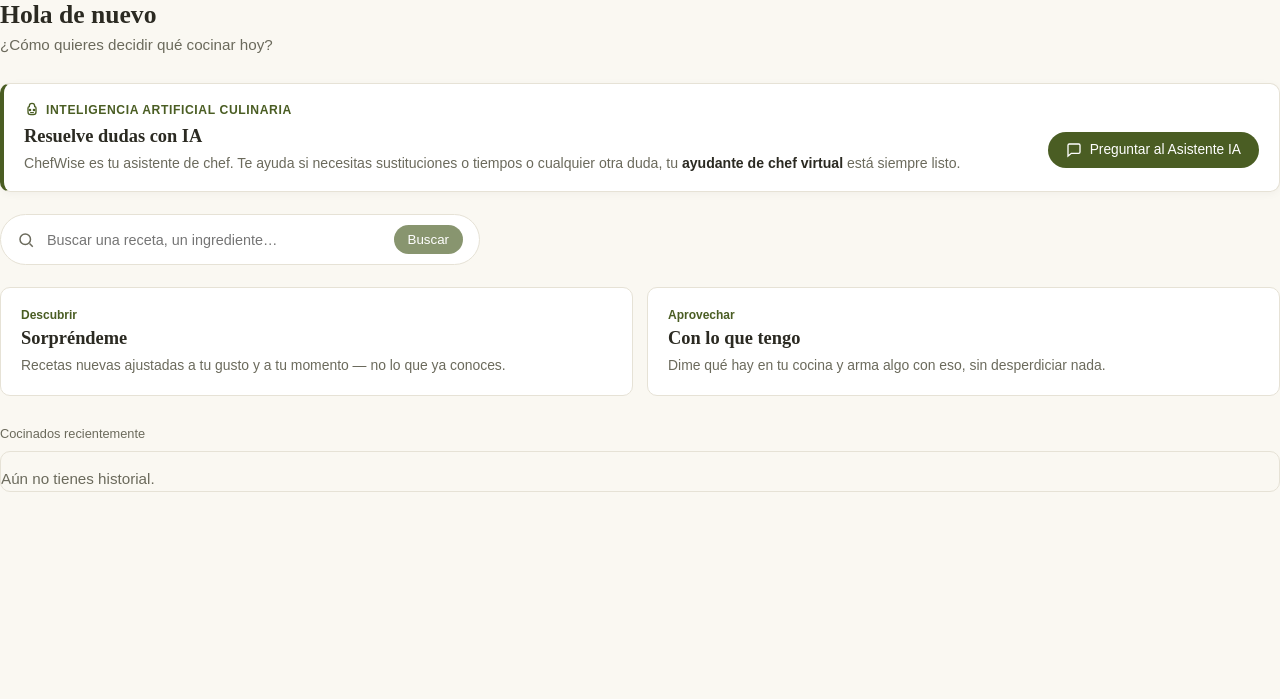
it: HomeComponent (búsqueda del catálogo) › muestra cinco resultados y cuántas coincidencias hay en total
This screenshot has width=1280, height=699.
Type "tacos" into the field with placeholder "Buscar una receta, un ingrediente…" at (214, 240), box [45, 231, 384, 249]
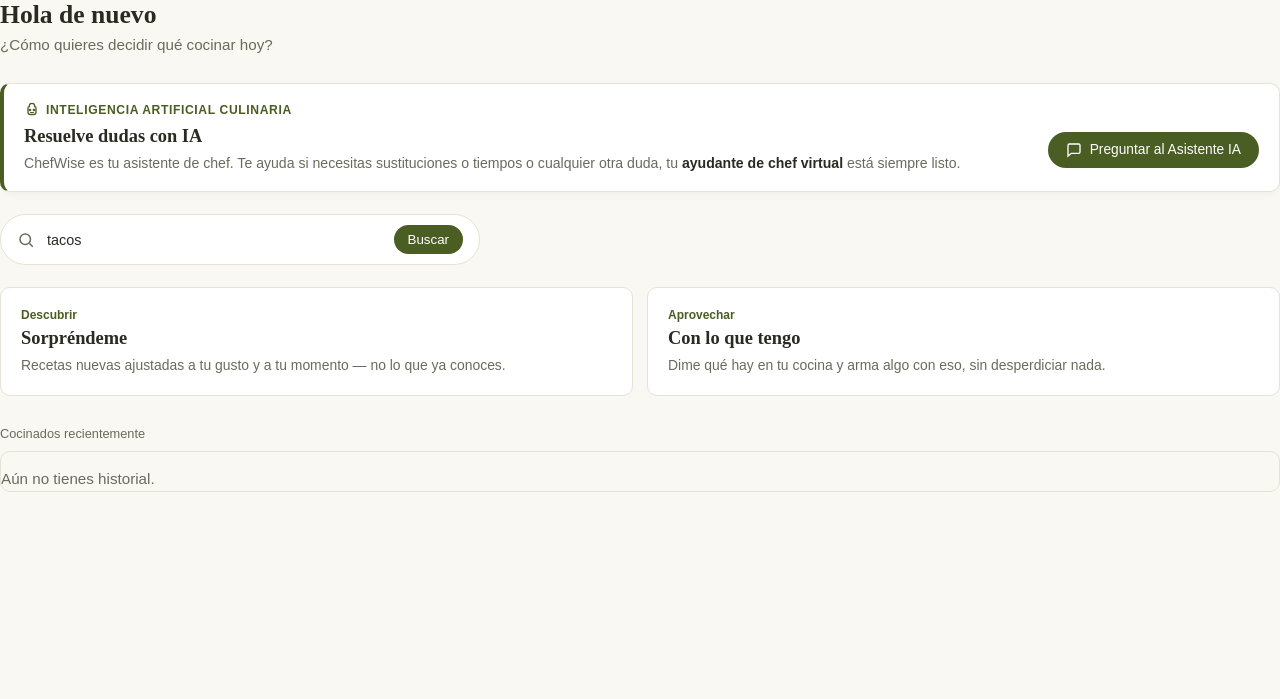
Click the button with class "search-button" at (428, 240), box [394, 225, 463, 254]
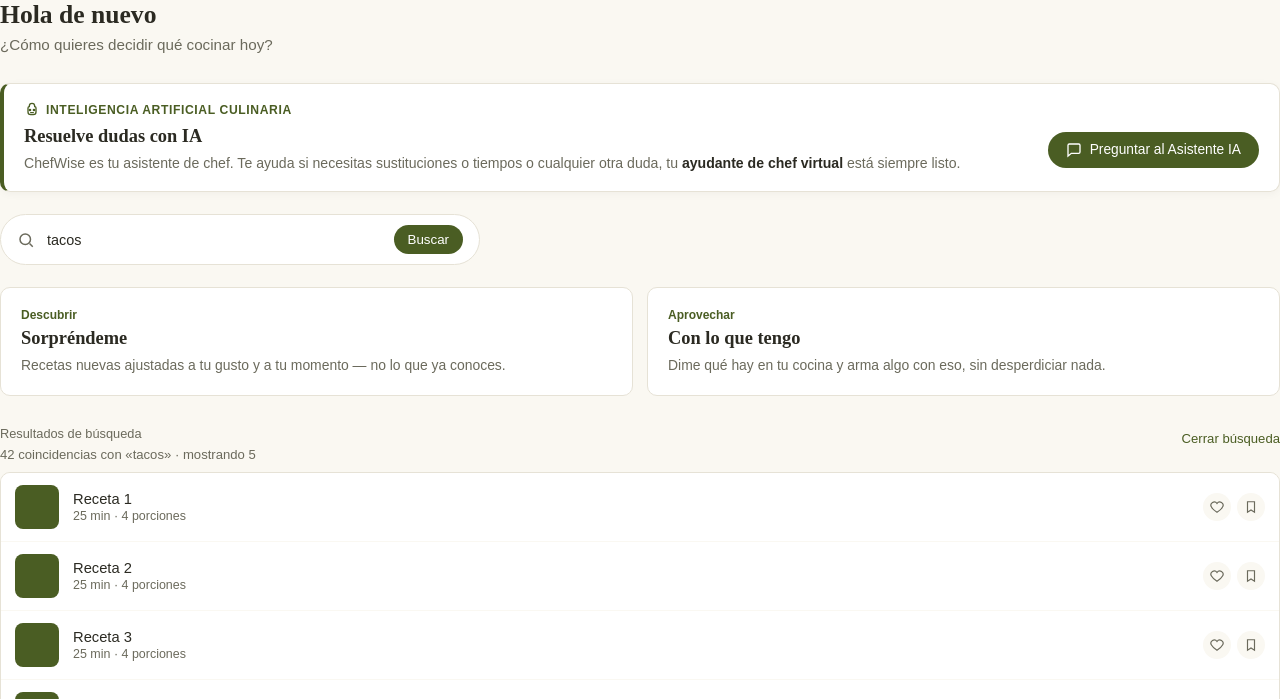
Check: the number of links with class "recipe-item" is 5
Check: the text "Resultados de búsqueda" is shown, box [0, 426, 142, 441]
Check: the text with class "results-count" shows "42 coincidencias con «tacos»", box [0, 447, 175, 462]
